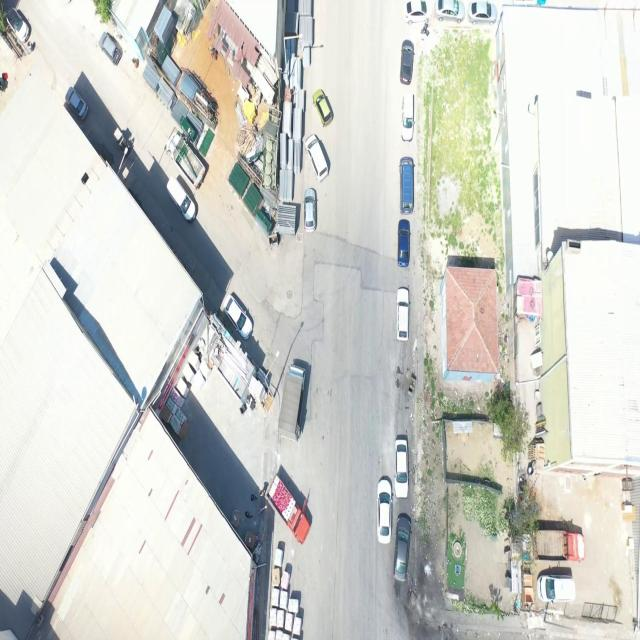p3rson: (245, 511, 253, 518), (251, 494, 257, 502), (260, 490, 266, 497)
